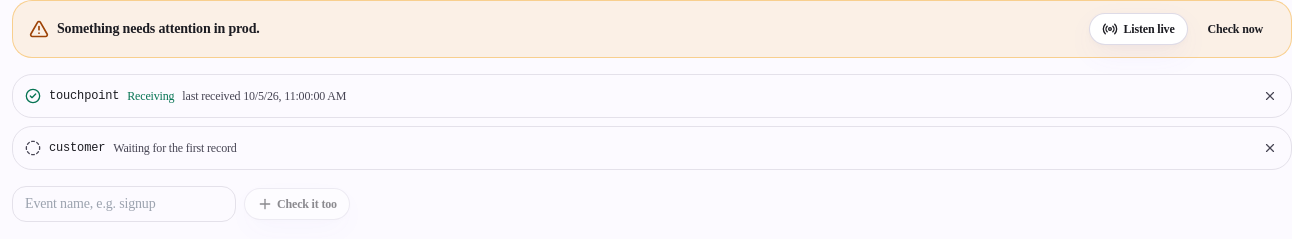
it: InstallationCheck › shows one status per row, and a remove button that says what it does
Expected: the text "Waiting for the first record" is shown, [113,140,237,156]
Click the button named "Stop checking customer" at (1270, 148), box [1261,139,1279,157]
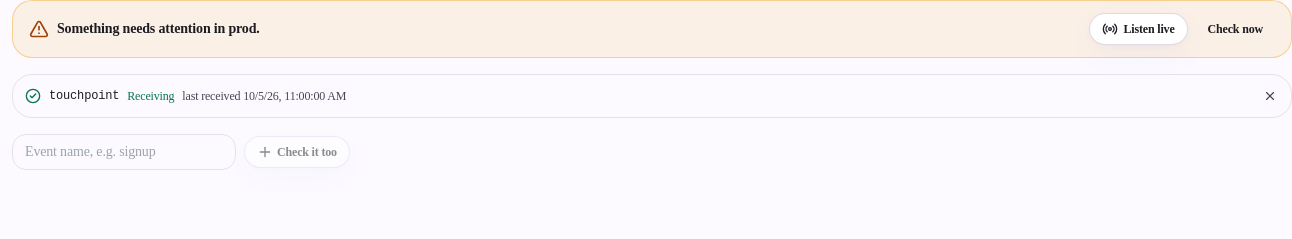
Expected: the list item with test id "installation-schema-touchpoint" is shown, [12,74,1291,118]
Expected: the list item with test id "installation-schema-customer" is gone
